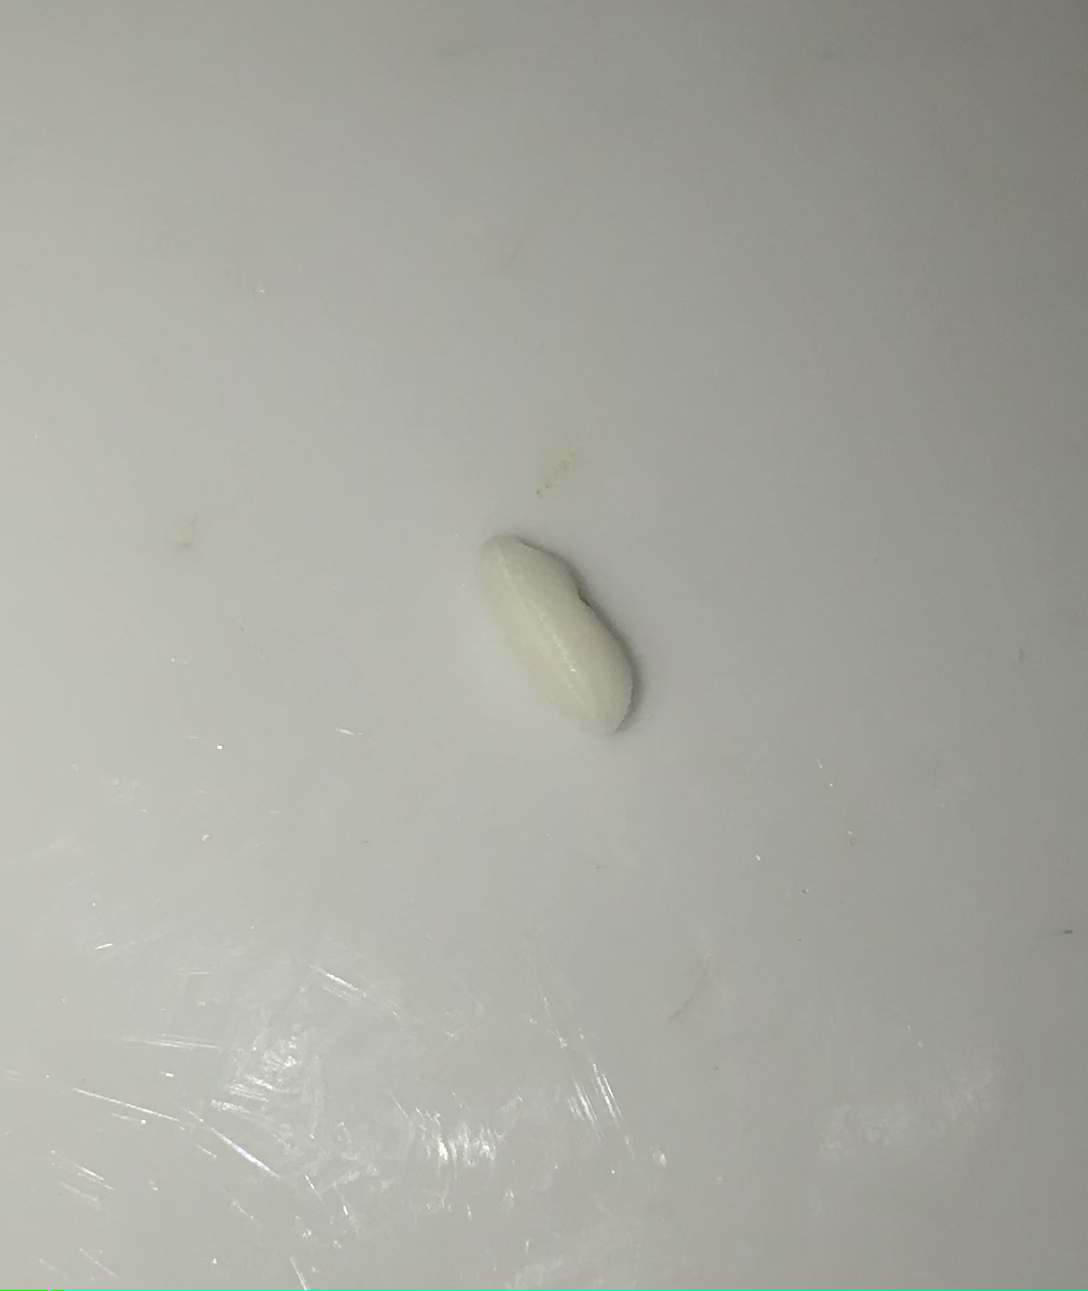Gao Nep Sap: (443, 502, 699, 752)
